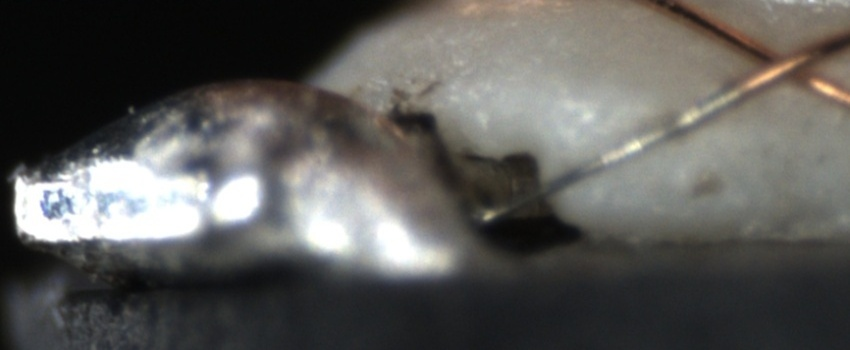CL: (731, 29, 829, 95)
TS: (483, 84, 744, 223)
TTCW: (485, 59, 780, 222)
